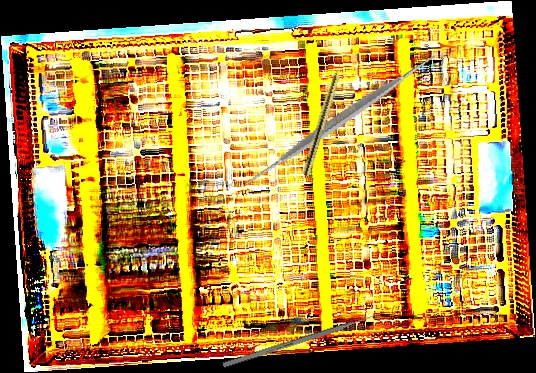Handpiece: (301, 51, 349, 177)
Pusher: (222, 309, 386, 369)
Spatula Surgical: (235, 12, 449, 227)
